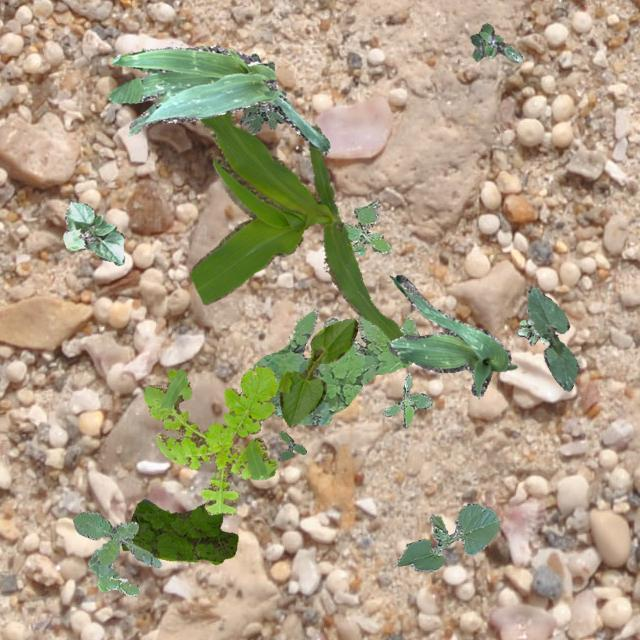crop: (188, 110, 402, 340), (108, 44, 328, 150), (388, 274, 516, 396), (278, 318, 356, 426), (393, 502, 498, 570), (526, 284, 578, 389), (63, 200, 124, 264)
weed: (142, 364, 278, 514), (252, 310, 418, 424), (121, 498, 237, 564), (72, 510, 160, 594), (238, 52, 284, 134), (382, 372, 431, 426), (342, 200, 390, 254), (469, 24, 522, 62), (276, 430, 306, 460), (516, 318, 548, 346)
